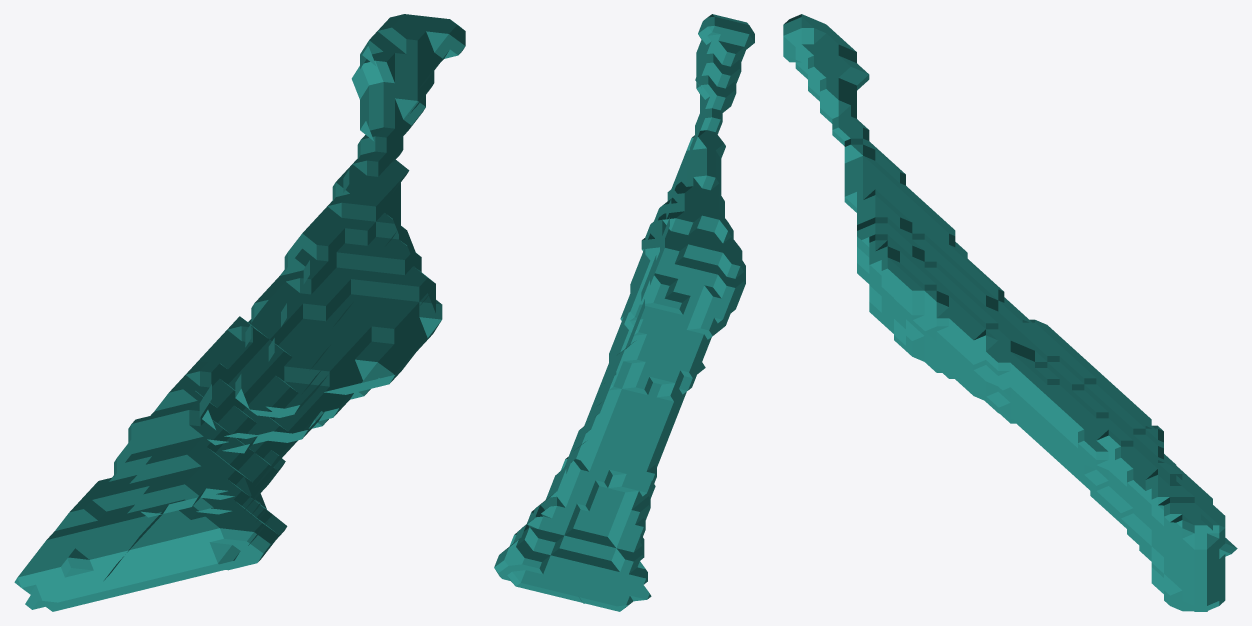
Rendered from region_0030_Ctec__tectal_commissure_.glb.
3 views of the same model, side by side, from view 1: azimuth 30°, elevation 25°; view 2: azimuth 150°, elevation 25°; view 3: azimuth 270°, elevation 25° (orthographic). The views are drawn at different scales.
Visible parts, largest first — view 1: world; view 2: world; view 3: world.
Boxes of the visible parts, x1,y1,x2,y2 form: world: (14, 14, 465, 611); world: (494, 14, 754, 611); world: (783, 14, 1237, 611).
Bounding box in the file's own units: 0.136 × 0.4 × 0.296.
